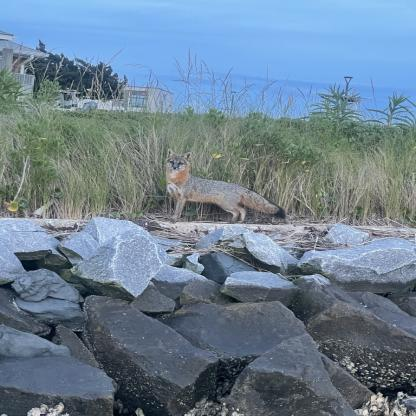zorro: (156, 143, 298, 228)
